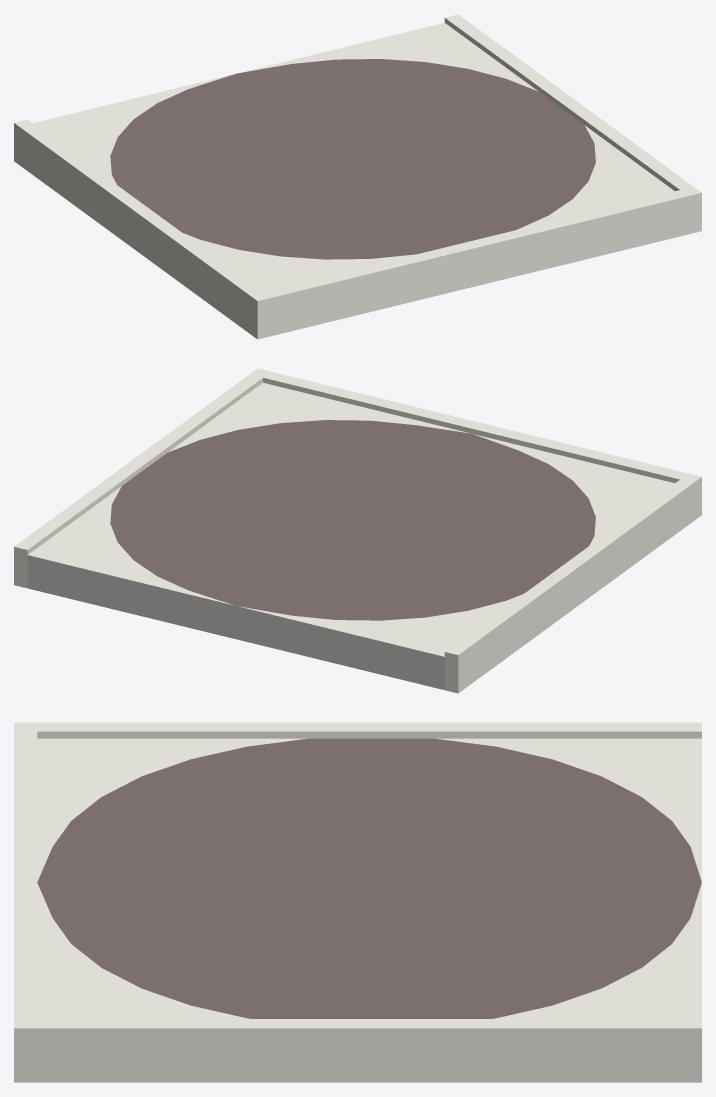
The model's file is platform_finish_boss.fbx.
3 views of the same model, one above another, from view 1: azimuth 30°, elevation 25°; view 2: azimuth 150°, elevation 25°; view 3: azimuth 270°, elevation 25° (orthographic). The views are drawn at different scales.
Parts seen in each view (by area): view 1: Platform.finish; view 2: Platform.finish; view 3: Platform.finish.
Part boxes in pixels (<box>): Platform.finish: <box>14,14,701,339</box>; Platform.finish: <box>14,368,701,693</box>; Platform.finish: <box>14,722,701,1082</box>.
Bounding box in the file's own units: 27.84 × 2.3 × 26.45.
Materials: 1 (1 with a texture image).
